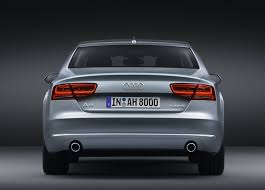car: (38, 37, 228, 176)
